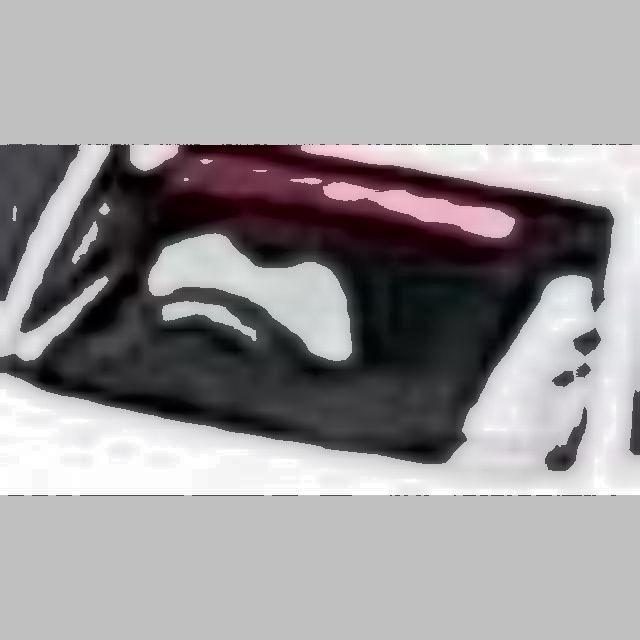tidak-pakai: (120, 185, 330, 405)
